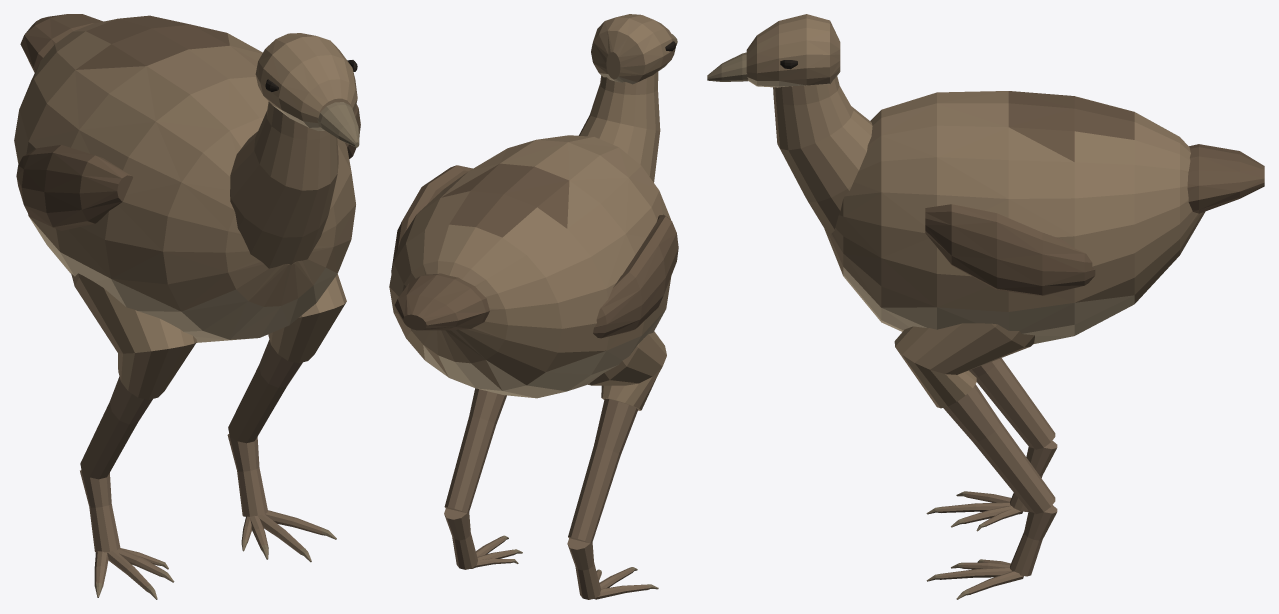
The picture shows the model from 3 angles, left to right: view 1: azimuth 30°, elevation 25°; view 2: azimuth 150°, elevation 25°; view 3: azimuth 270°, elevation 25°; orthographic projection. The views are drawn at different scales.
Visible parts, largest first — view 1: feathered_oval_trunk, short_curved_feathered_neck, left_reduced_folded_wing, small_rounded_head, left_robust_feathered_thigh, right_tibiotarsal_shank, left_tibiotarsal_shank, right_robust_feathered_thigh, right_short_tarsometatarsus, left_short_tarsometatarsus, short_restrained_tail, right_four_forward_toes (+2 smaller); view 2: feathered_oval_trunk, left_reduced_folded_wing, short_curved_feathered_neck, small_rounded_head, short_restrained_tail, left_tibiotarsal_shank, right_tibiotarsal_shank, left_robust_feathered_thigh, right_reduced_folded_wing, left_short_tarsometatarsus, right_short_tarsometatarsus, left_four_forward_toes (+1 smaller); view 3: feathered_oval_trunk, right_reduced_folded_wing, short_curved_feathered_neck, right_robust_feathered_thigh, small_rounded_head, right_tibiotarsal_shank, short_restrained_tail, left_tibiotarsal_shank, right_short_tarsometatarsus, left_four_forward_toes, right_four_forward_toes, conservative_short_closed_bill (+1 smaller).
Part boxes in pixels (left/top/right/bottom): feathered_oval_trunk: left=14, top=15, right=355, bottom=342; short_curved_feathered_neck: left=230, top=102, right=338, bottom=268; left_reduced_folded_wing: left=16, top=145, right=132, bottom=230; small_rounded_head: left=255, top=33, right=357, bottom=130; left_robust_feathered_thigh: left=71, top=273, right=196, bottom=399; right_tibiotarsal_shank: left=228, top=339, right=302, bottom=443; left_tibiotarsal_shank: left=80, top=376, right=152, bottom=479; right_robust_feathered_thigh: left=268, top=274, right=346, bottom=363; right_short_tarsometatarsus: left=227, top=434, right=267, bottom=516; left_short_tarsometatarsus: left=80, top=470, right=120, bottom=552; short_restrained_tail: left=20, top=14, right=103, bottom=72; right_four_forward_toes: left=241, top=510, right=324, bottom=554; feathered_oval_trunk: left=389, top=135, right=671, bottom=398; left_reduced_folded_wing: left=593, top=214, right=678, bottom=338; short_curved_feathered_neck: left=579, top=72, right=660, bottom=182; small_rounded_head: left=591, top=14, right=675, bottom=84; short_restrained_tail: left=394, top=273, right=489, bottom=330; left_tibiotarsal_shank: left=568, top=398, right=637, bottom=543; right_tibiotarsal_shank: left=444, top=388, right=506, bottom=513; left_robust_feathered_thigh: left=588, top=331, right=666, bottom=410; right_reduced_folded_wing: left=391, top=165, right=472, bottom=273; left_short_tarsometatarsus: left=567, top=538, right=601, bottom=599; right_short_tarsometatarsus: left=444, top=508, right=477, bottom=569; left_four_forward_toes: left=594, top=568, right=648, bottom=599; feathered_oval_trunk: left=824, top=91, right=1205, bottom=344; right_reduced_folded_wing: left=925, top=204, right=1095, bottom=295; short_curved_feathered_neck: left=773, top=76, right=872, bottom=237; right_robust_feathered_thigh: left=894, top=323, right=1034, bottom=408; small_rounded_head: left=746, top=14, right=840, bottom=87; right_tibiotarsal_shank: left=943, top=384, right=1055, bottom=513; short_restrained_tail: left=1187, top=144, right=1264, bottom=213; left_tibiotarsal_shank: left=969, top=358, right=1055, bottom=449; right_short_tarsometatarsus: left=1010, top=505, right=1057, bottom=576; left_four_forward_toes: left=940, top=491, right=1022, bottom=526; right_four_forward_toes: left=940, top=559, right=1023, bottom=594; conservative_short_closed_bill: left=707, top=52, right=748, bottom=81.
Bounding box in the file's own units: 0.212 × 0.3993 × 0.381.
